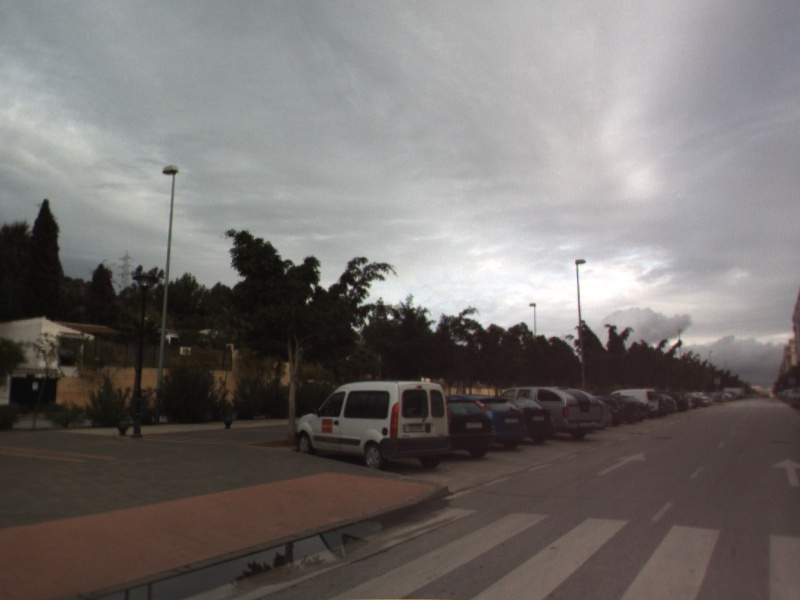STRAIGHT: (594, 450, 648, 477), (770, 455, 800, 489)
